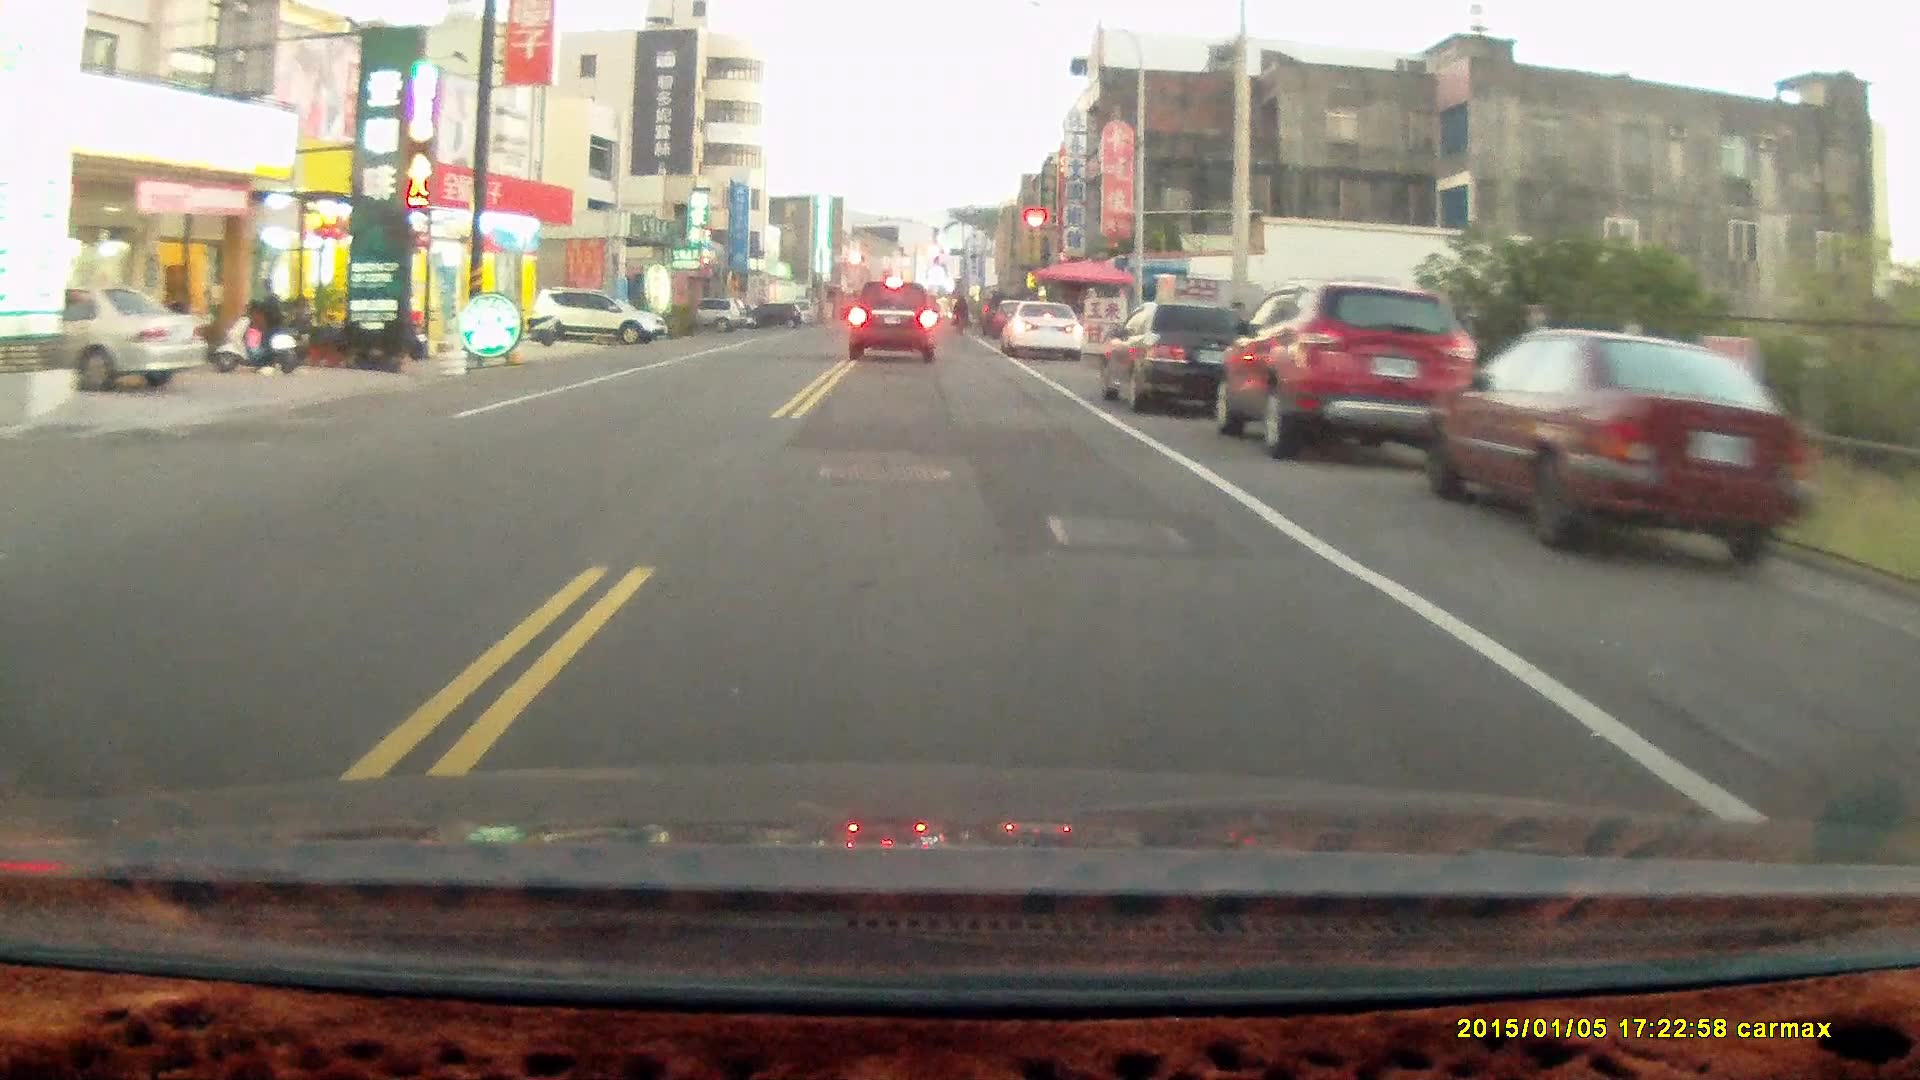vehicle: (1423, 328, 1812, 578), (1221, 277, 1491, 458), (1, 287, 211, 393), (1101, 302, 1262, 415), (531, 284, 671, 349), (847, 281, 938, 365), (1002, 299, 1085, 361)
